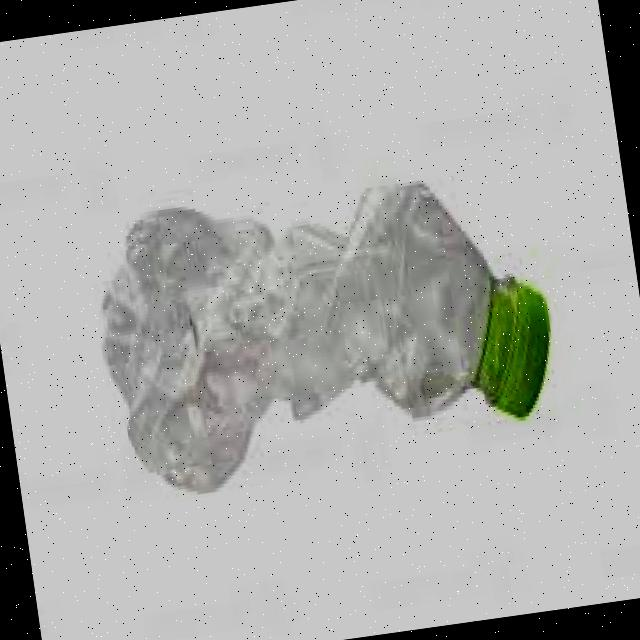bottle: (86, 140, 565, 514)
cap: (472, 274, 566, 424)
